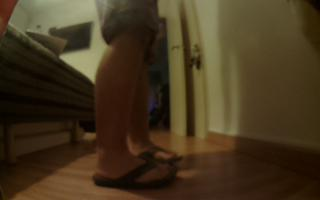person: (90, 1, 190, 193)
